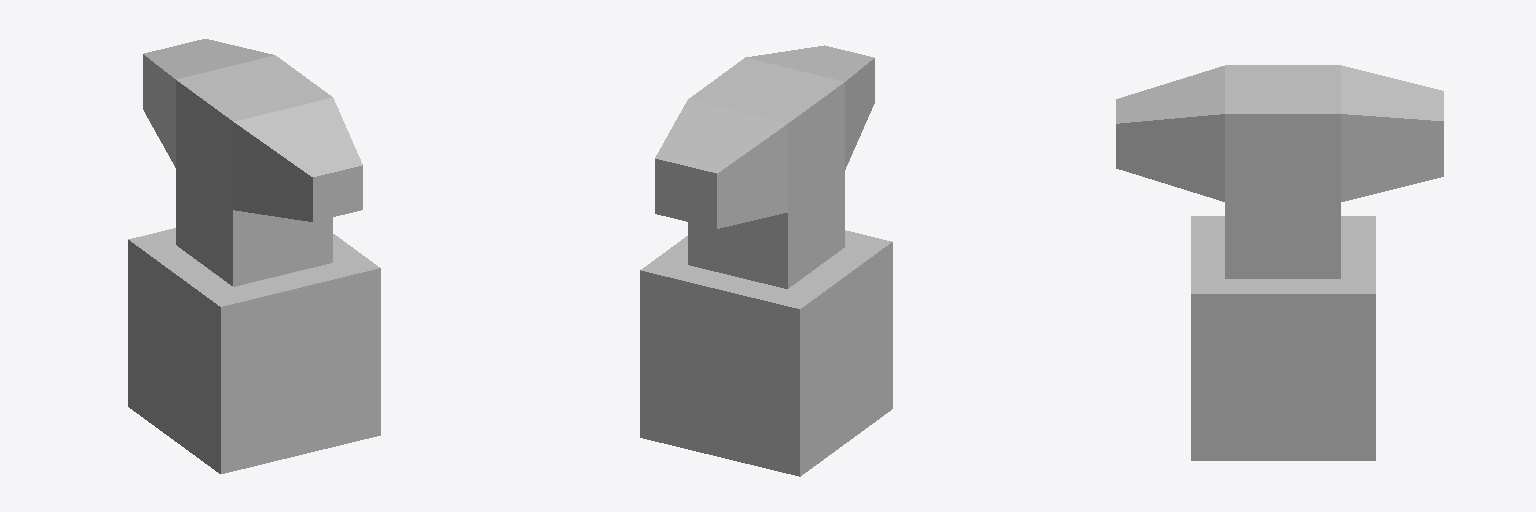
Rendered from thing.obj.
3 views of the same model, side by side, from view 1: azimuth 30°, elevation 25°; view 2: azimuth 150°, elevation 25°; view 3: azimuth 270°, elevation 25° (orthographic).
Parts seen in each view (by area): view 1: Cube; view 2: Cube; view 3: Cube.
Part boxes in pixels (left/top/right/bottom): Cube: left=128, top=39, right=380, bottom=473; Cube: left=640, top=45, right=892, bottom=476; Cube: left=1116, top=65, right=1443, bottom=460.
Bounding box in the file's own units: 2 × 3.97 × 3.54.